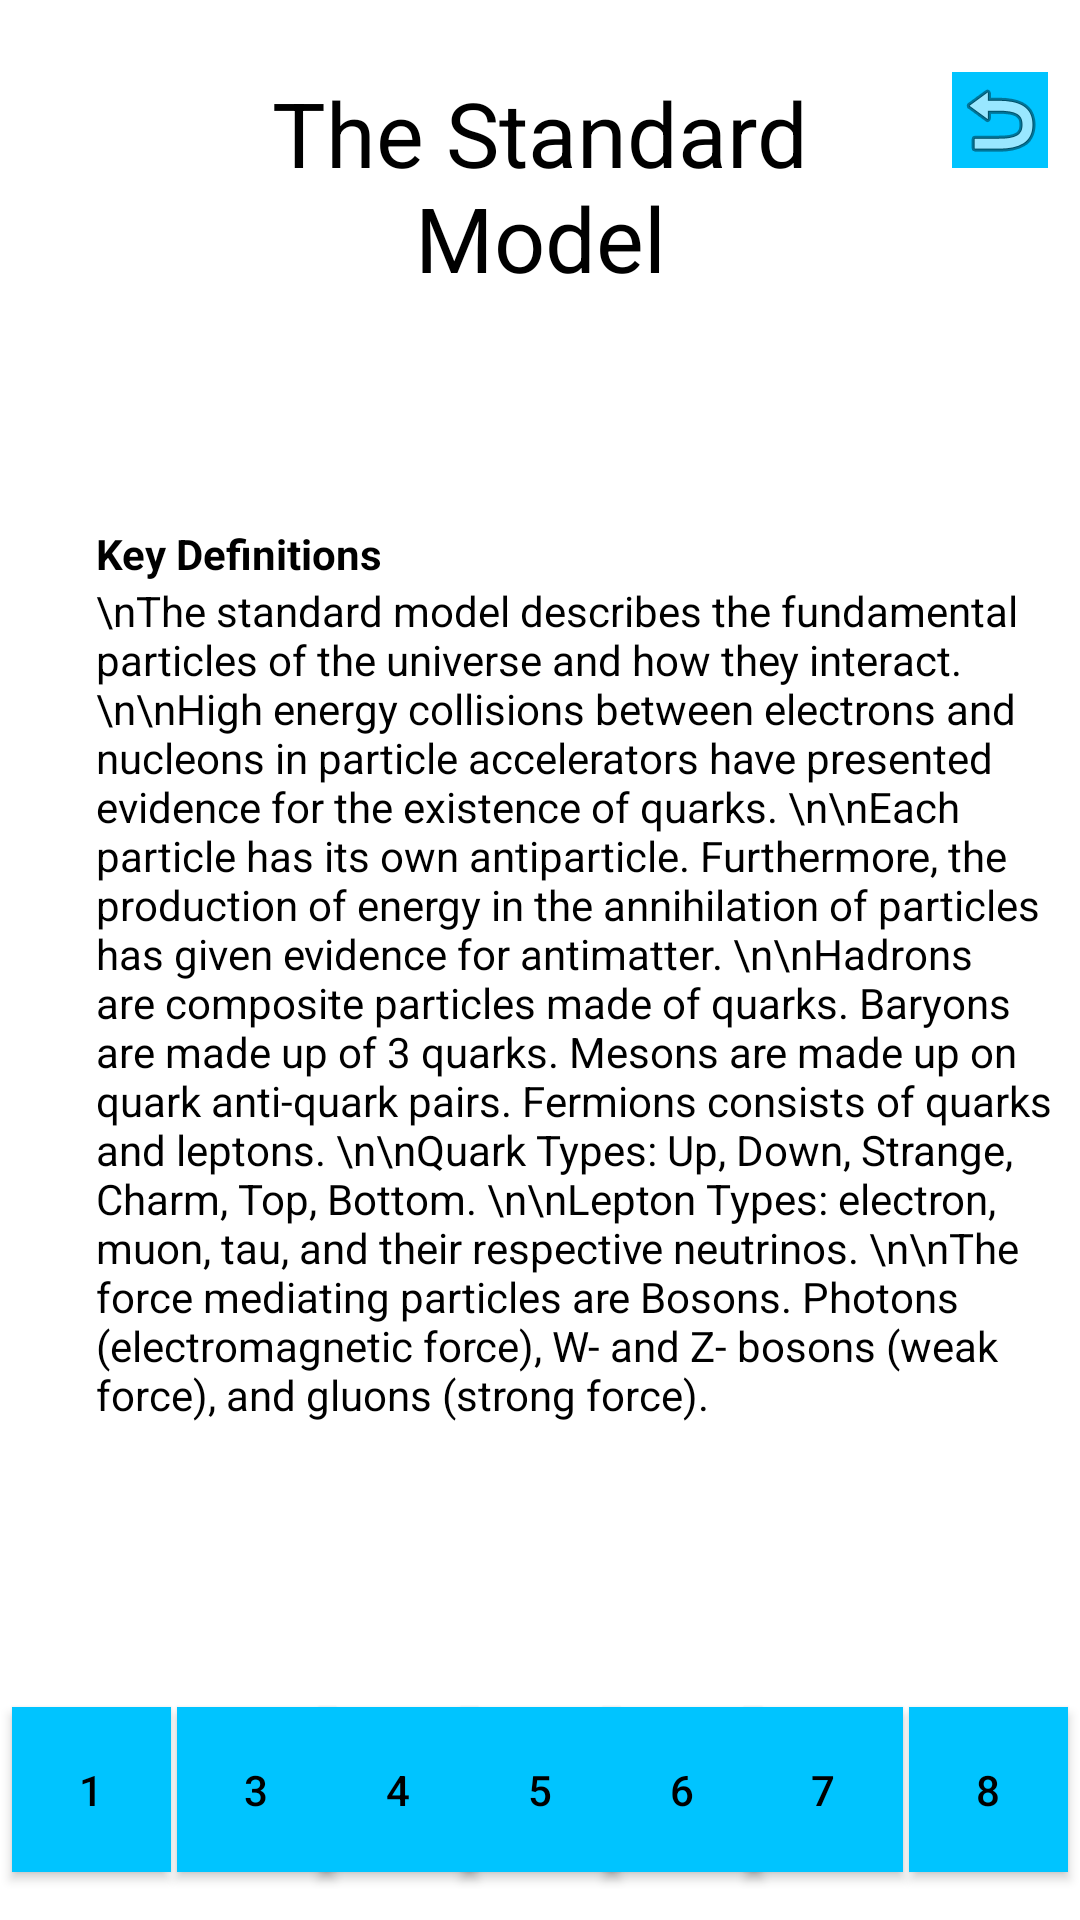

Icons on this 1080w x 1920h Android screen, each with its box as (x1, y1, x2, y2):
revert: (952, 72, 1048, 168)
